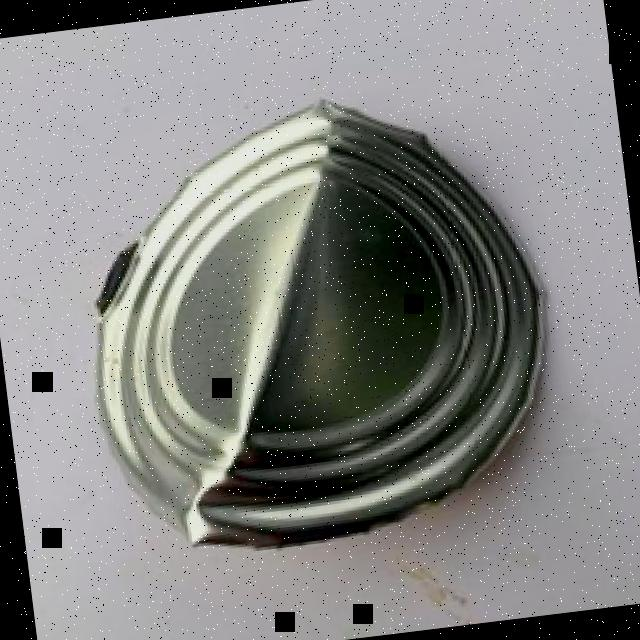can: (63, 72, 579, 572)
